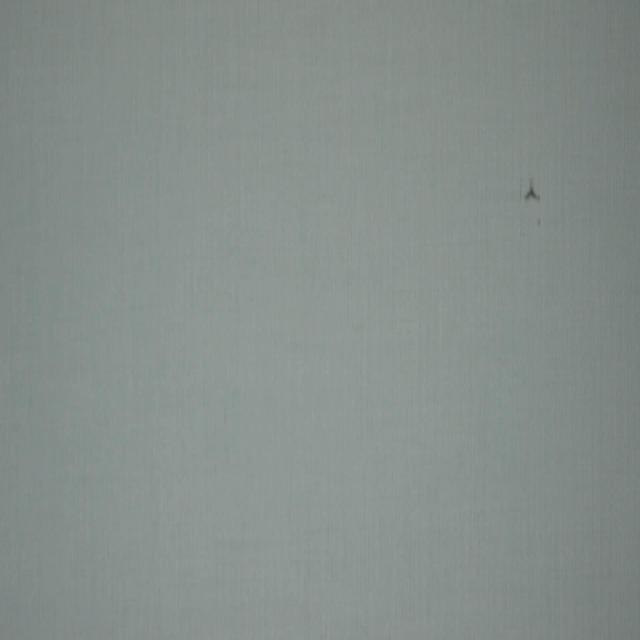dirty: (524, 179, 541, 204)
